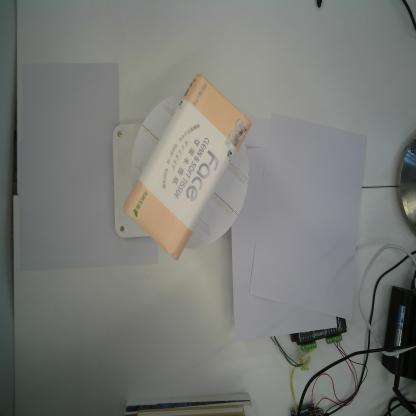Tissue: (123, 73, 251, 264)
